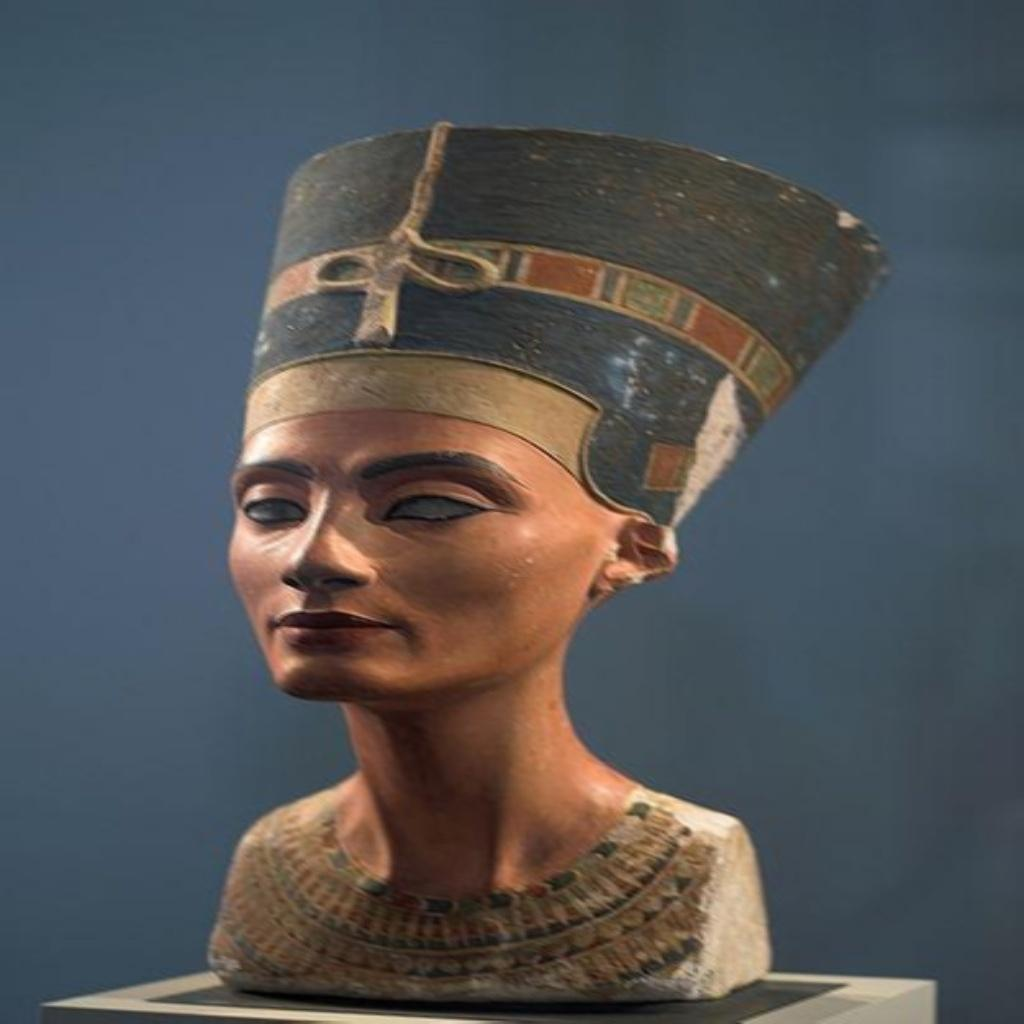Nefertiti: (202, 120, 890, 1006)
